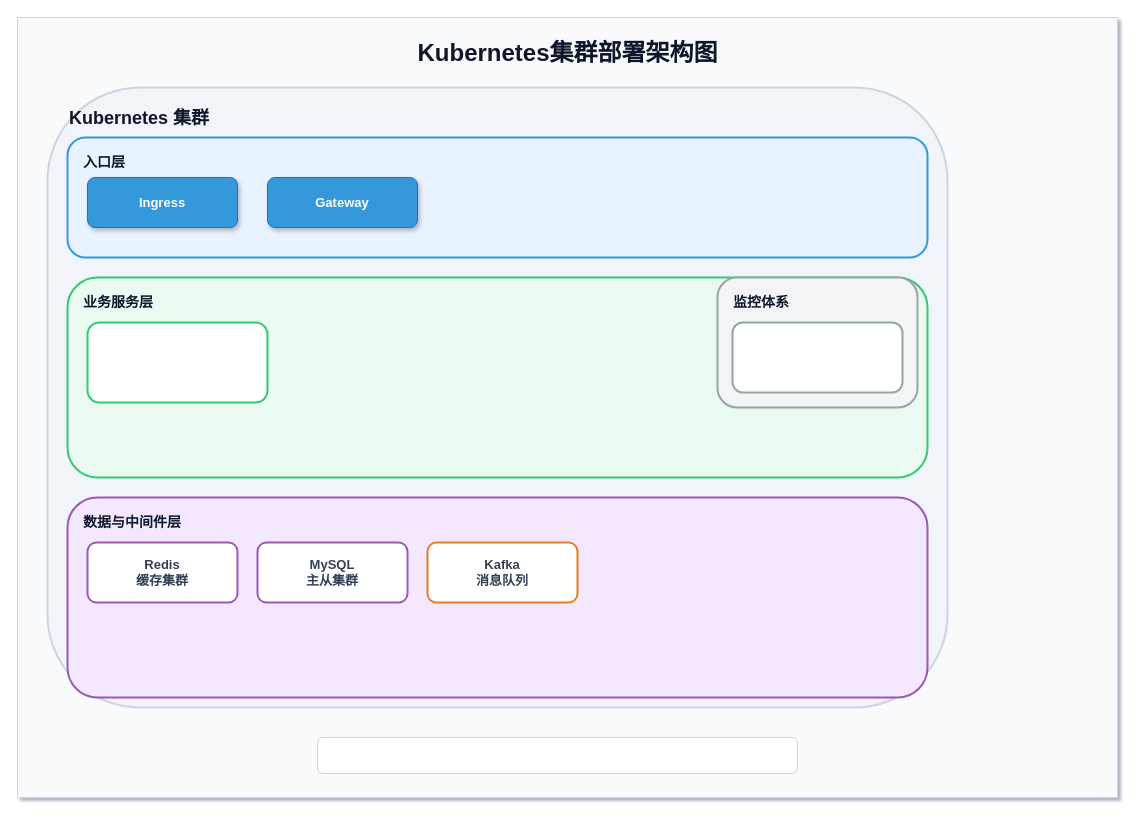
Image size: 1141x821. Some labels were removed from this diagram. The shapes that lost their labels are listed below. From the top down, each one's centre as x and y in pixels, then its label:
[177,362]: 业务服务 ━━━━━━ 微服务实例
[817,357]: 监控 ━━━━━ 告警 · 日志
[557,755]: 蓝色=入口 绿色=业务服务 紫色=数据 橙色=消息 灰色=监控
